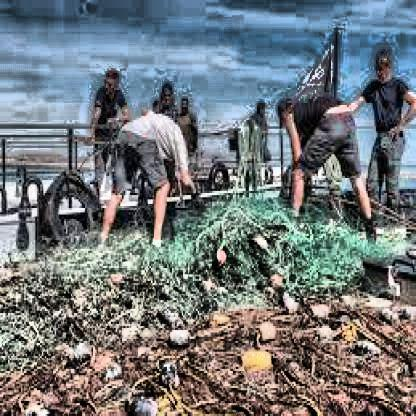Fishing wastes: (35, 218, 358, 317)
